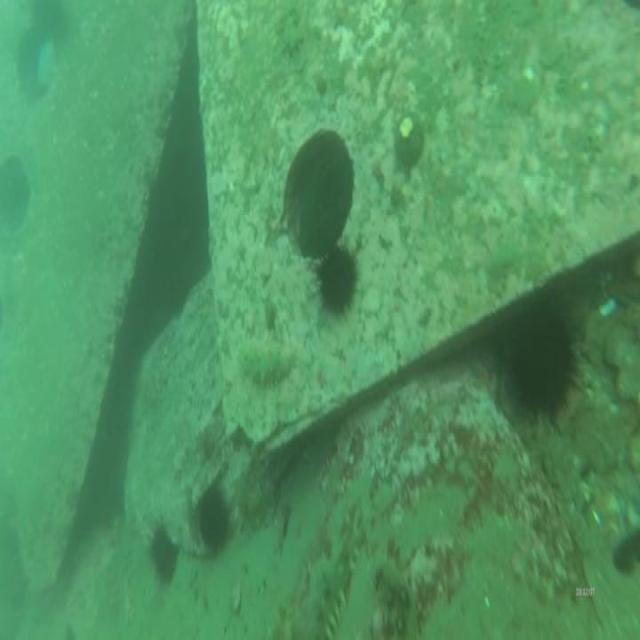echinus: (502, 286, 590, 436), (312, 234, 367, 322), (190, 472, 236, 562), (146, 510, 183, 591)
holothurian: (318, 516, 358, 640), (235, 329, 297, 381)
